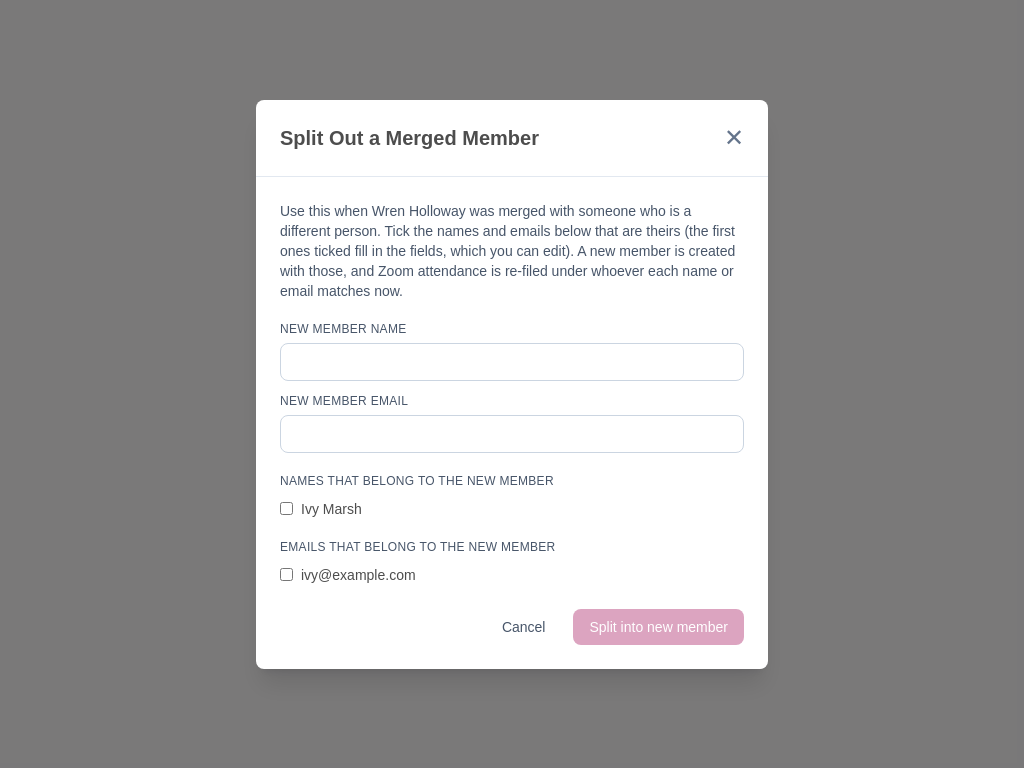
Scenario: SplitMemberModal › fills name and email from the ticked aliases
Click the checkbox labelled "Ivy Marsh" at {"x": 286, "y": 508}, box [280,502,293,515]
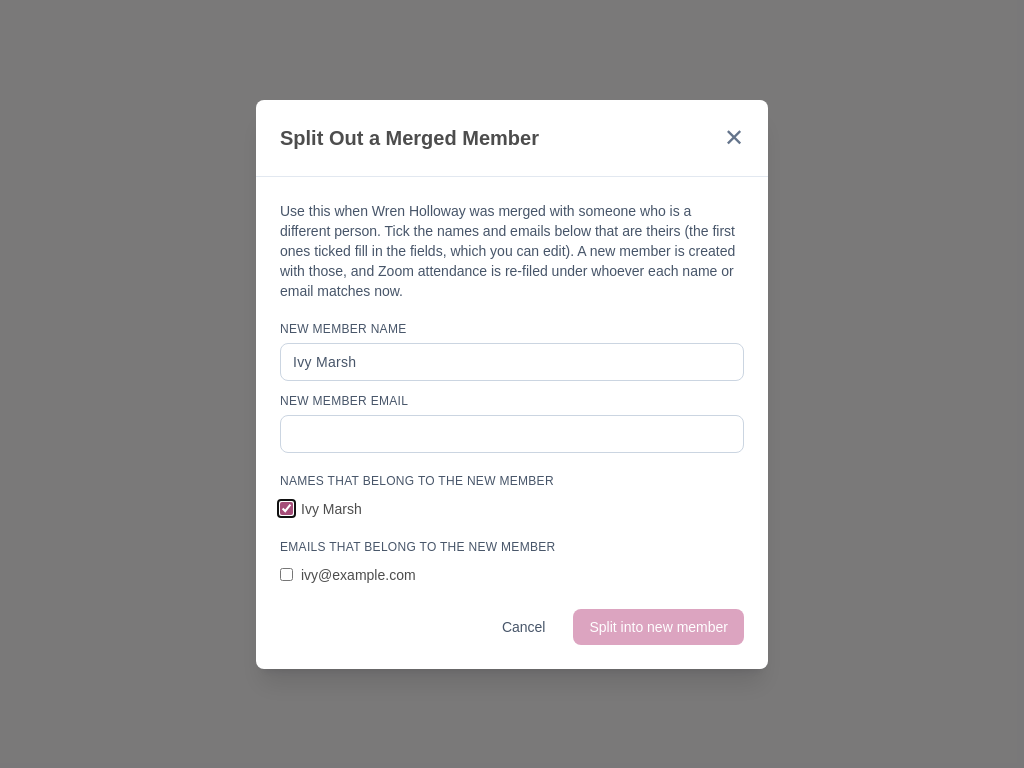
Click the checkbox labelled "ivy@example.com" at {"x": 286, "y": 574}, box [280,568,293,581]
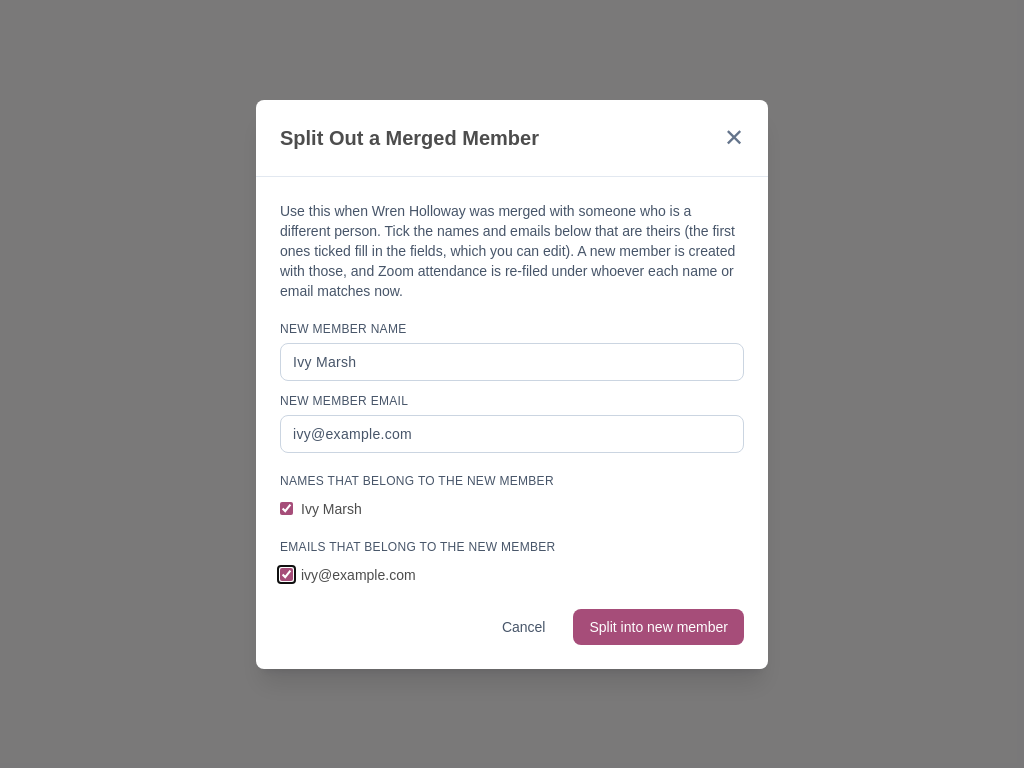
Result: the field labelled "New member name" holds "Ivy Marsh" at [280,342,744,380]
Result: the field labelled "New member email" holds "ivy@example.com" at [280,414,744,452]
